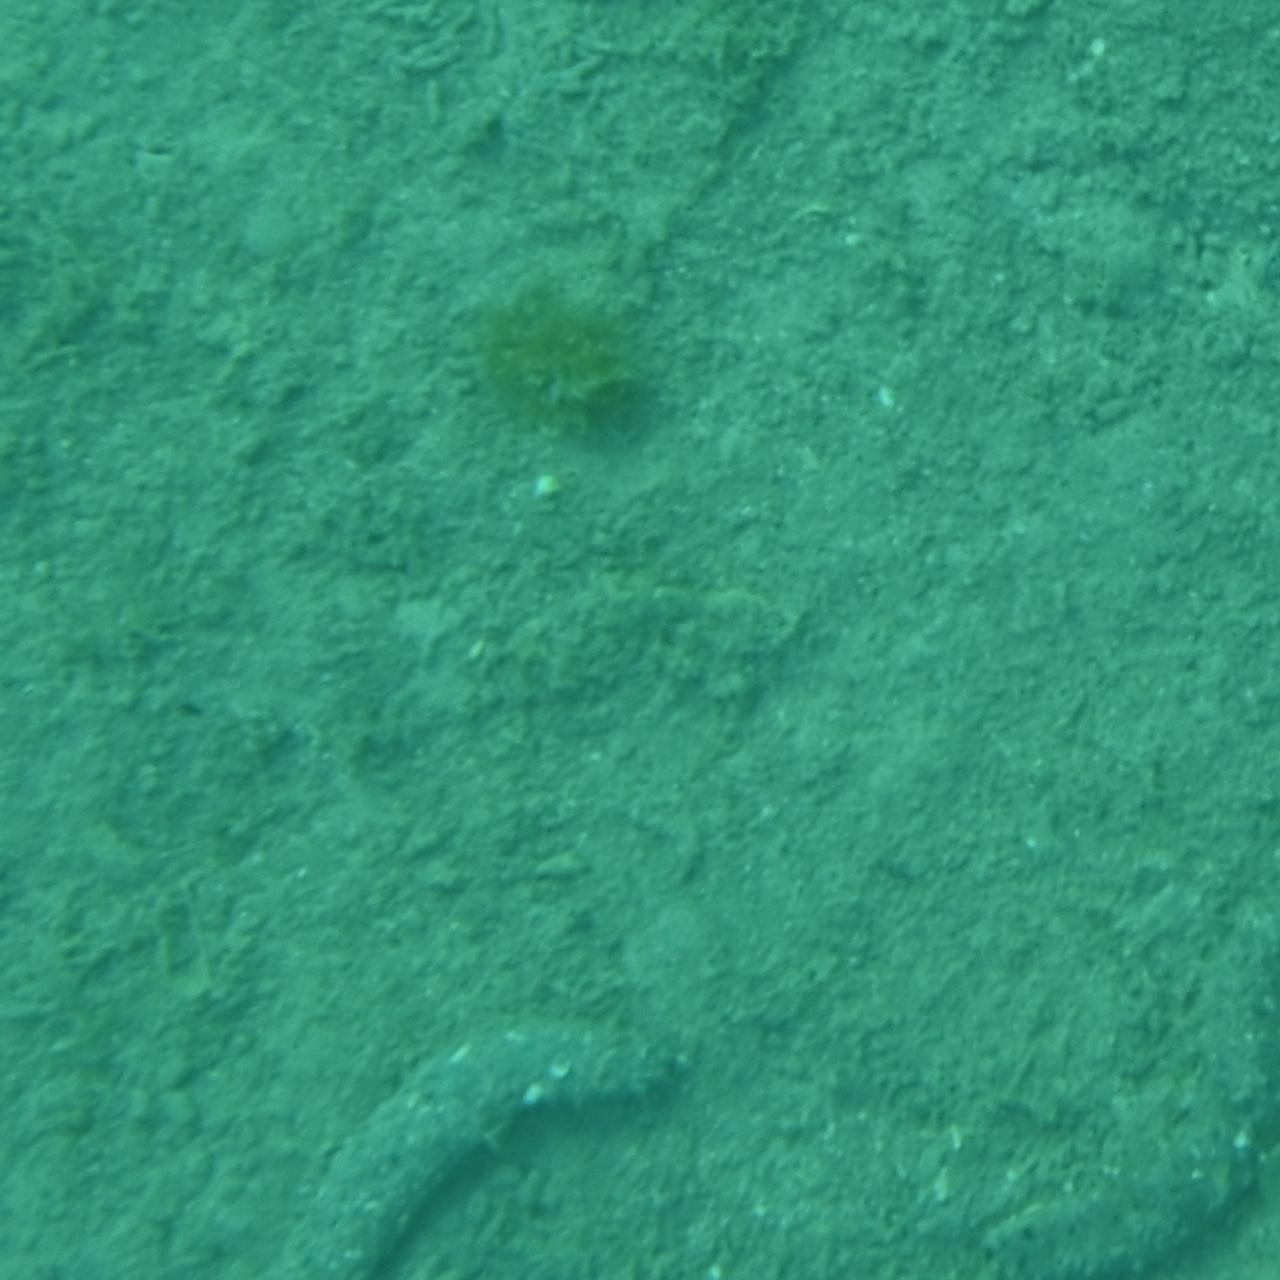Holothuria tubulosa: (979, 867, 1280, 1280), (223, 1015, 675, 1280), (987, 1062, 1280, 1280), (223, 0, 429, 266), (1077, 0, 1280, 198), (0, 1178, 321, 1280), (1073, 213, 1280, 363)
Phaeophyceae -cfr Cystoseira-: (1143, 849, 1280, 1144), (1053, 0, 1280, 171), (1122, 1123, 1280, 1280)
